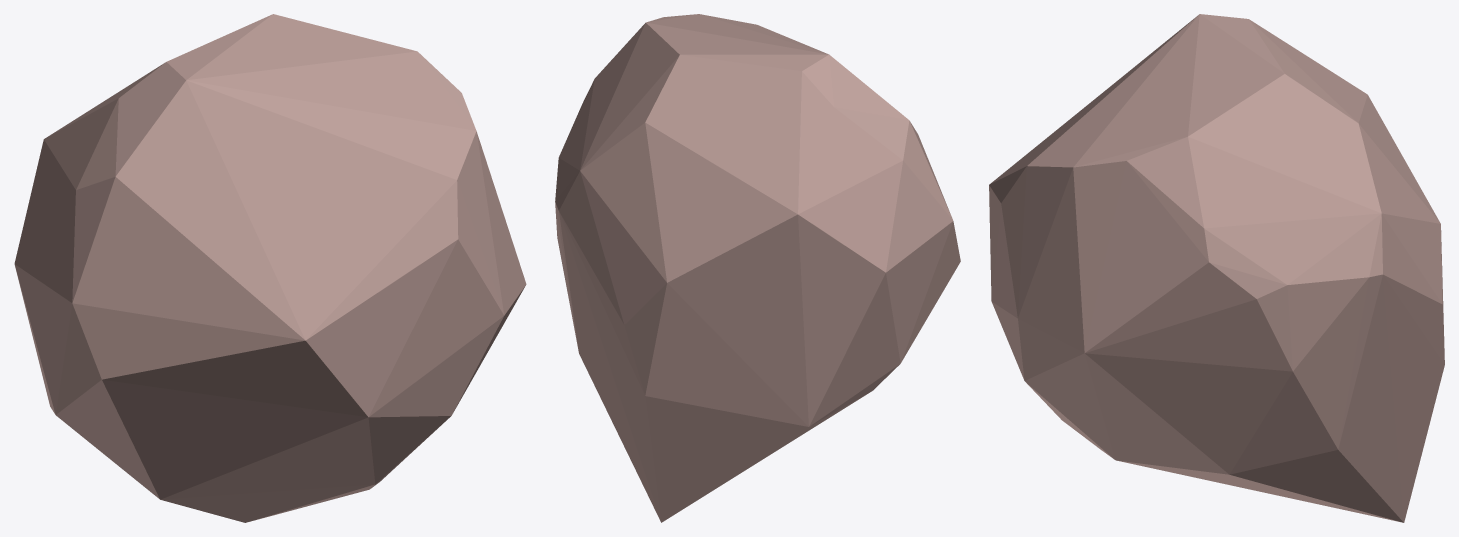
The model's file is food_produce_pear_e01.glb.
The picture shows the model from 3 angles, left to right: view 1: azimuth 30°, elevation 25°; view 2: azimuth 150°, elevation 25°; view 3: azimuth 270°, elevation 25°; orthographic projection. The views are drawn at different scales.
Parts seen in each view (by area): view 1: geometry_0; view 2: geometry_0; view 3: geometry_0.
Part boxes in pixels (box(x1,y1,x2,y2)): geometry_0: box(14, 14, 526, 522); geometry_0: box(555, 14, 960, 522); geometry_0: box(989, 14, 1444, 522).
Size of the model in its own units: 0.403 by 0.4595 by 0.4055.
